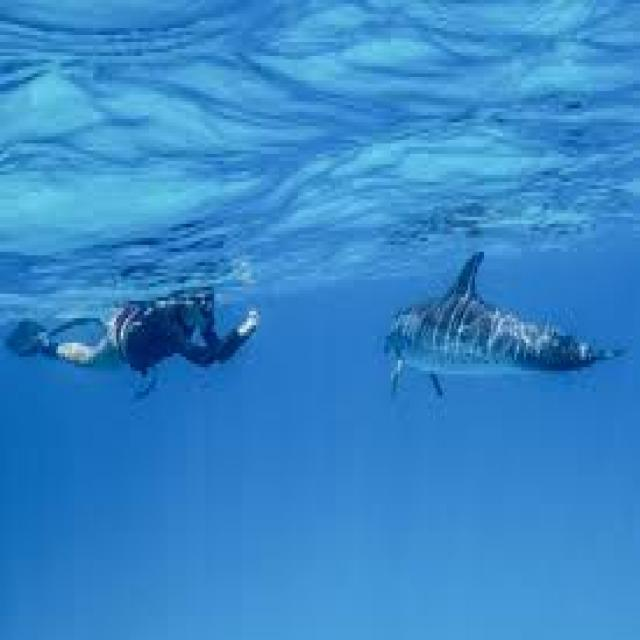dolphin: (360, 238, 620, 440)
